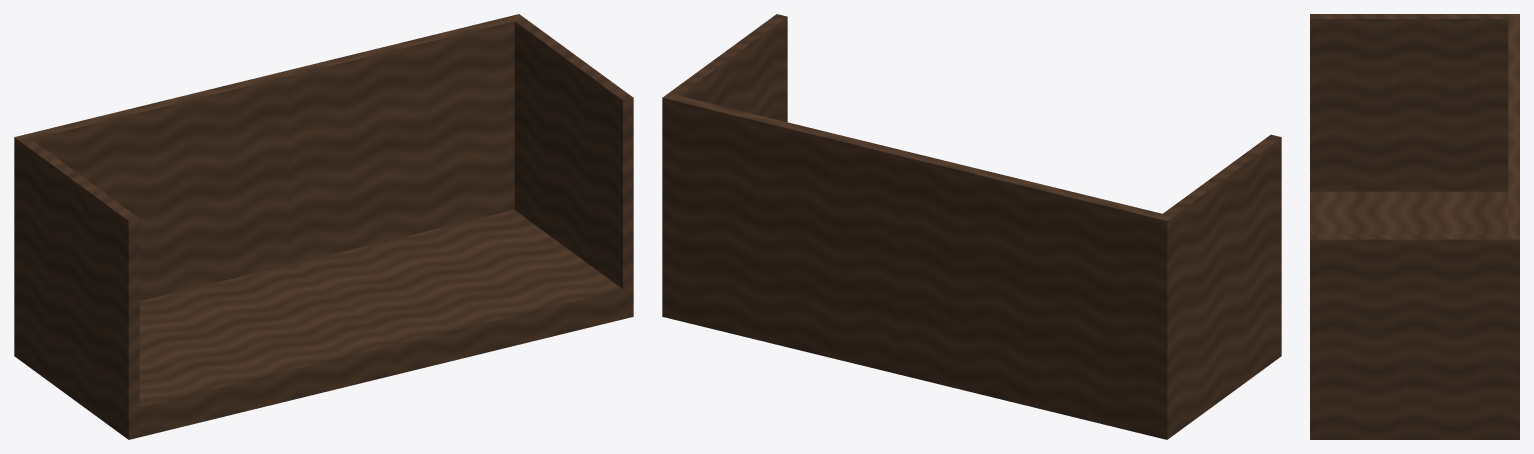
File: balcony_basic.tmp.glb
3 renders of one model, left to right at view 1: azimuth 30°, elevation 25°; view 2: azimuth 150°, elevation 25°; view 3: azimuth 270°, elevation 25°, orthographic. The views are drawn at different scales.
Visible parts, largest first — view 1: balcony_basic_0; view 2: balcony_basic_0; view 3: balcony_basic_0.
Boxes of the visible parts, x1,y1,x2,y2 form: balcony_basic_0: (14,14,633,439); balcony_basic_0: (662,14,1281,439); balcony_basic_0: (1310,14,1519,439).
Size of the model in its own units: 2.8 by 1.16 by 1.1.
1 material, 1 textured.
